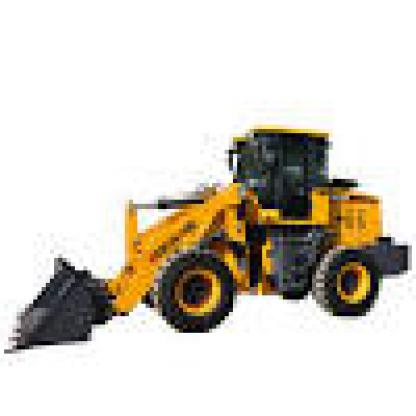bull_dozer/loader/grader: (4, 84, 412, 374)
